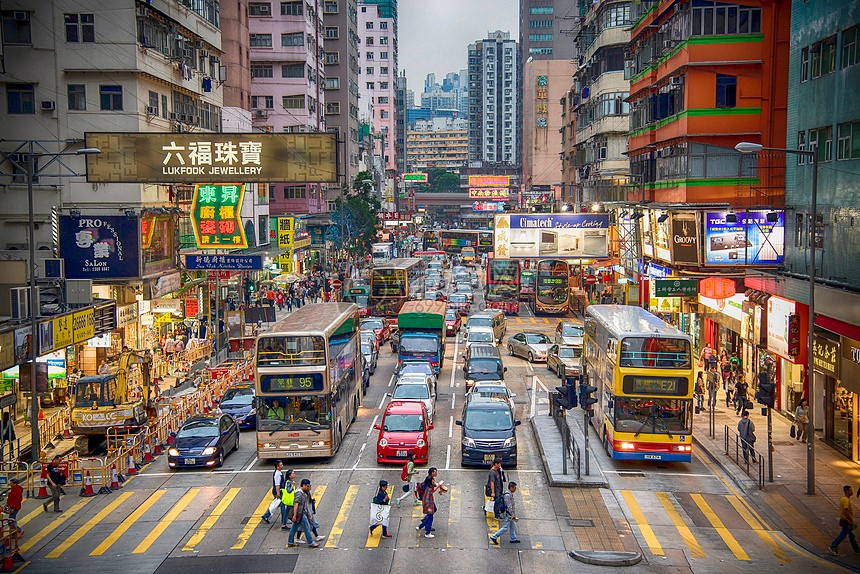people: (416, 466, 446, 539), (496, 477, 523, 544), (480, 460, 507, 521), (42, 454, 69, 514), (368, 477, 391, 543), (295, 481, 318, 547), (836, 479, 856, 550), (397, 450, 419, 508), (269, 459, 291, 517), (5, 476, 24, 539), (737, 414, 759, 462), (284, 466, 303, 521), (1, 410, 19, 462), (264, 395, 284, 429), (796, 400, 811, 442), (736, 371, 750, 415), (694, 370, 706, 411), (707, 370, 719, 411), (723, 373, 737, 405), (701, 342, 714, 371), (278, 287, 285, 314), (719, 349, 728, 369), (266, 287, 274, 305), (284, 292, 292, 309)
